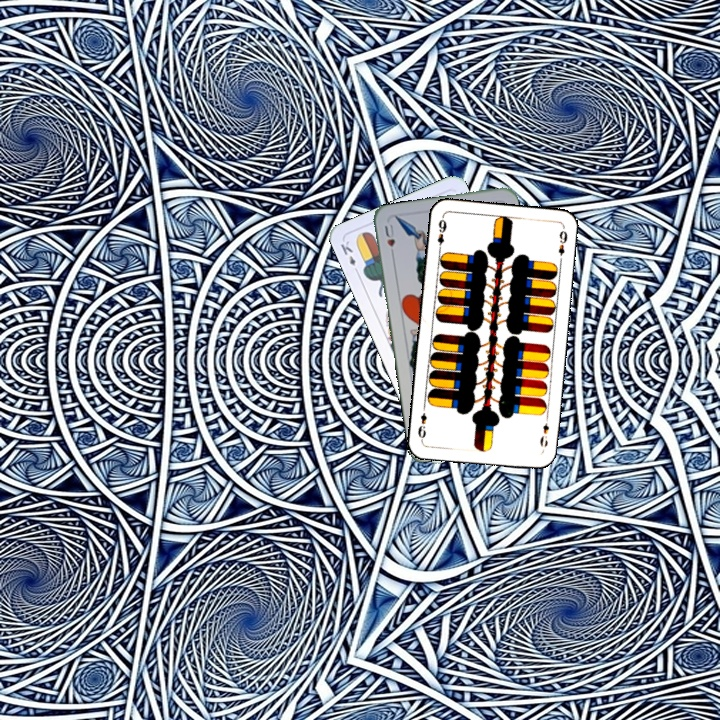E9: (434, 215, 449, 254), (536, 419, 551, 450)
EK: (336, 237, 362, 276)
HU: (381, 220, 397, 260)
